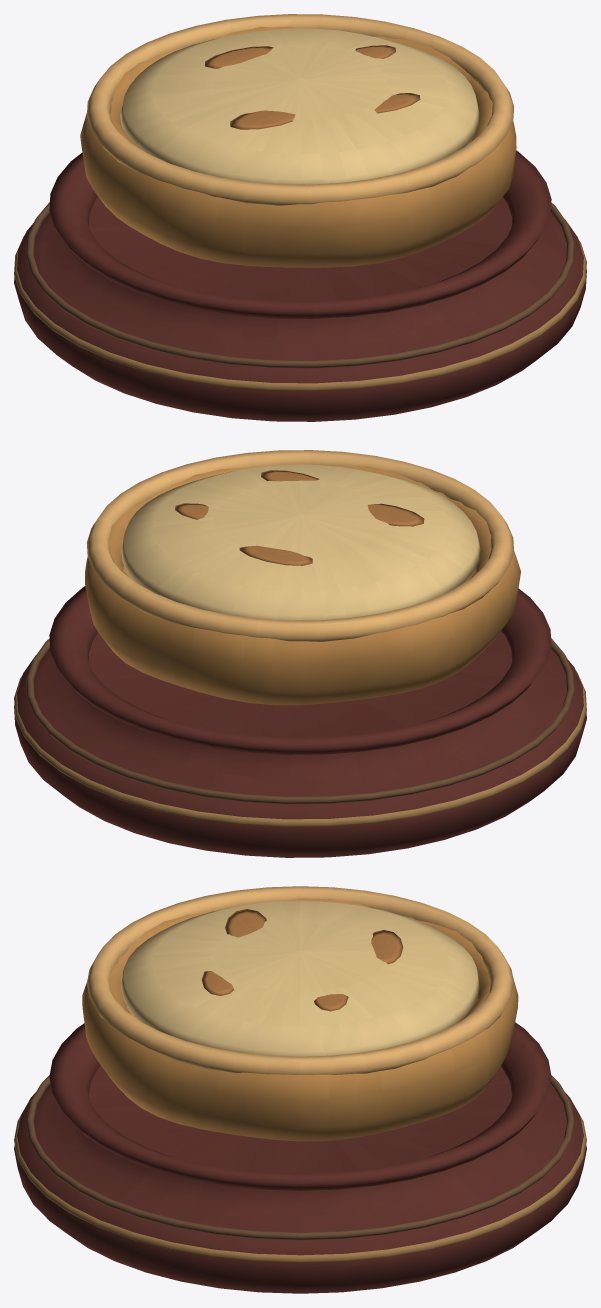
The model's file is cheese-tart.glb.
3 views of the same model, one above another, from view 1: azimuth 30°, elevation 25°; view 2: azimuth 150°, elevation 25°; view 3: azimuth 270°, elevation 25° (orthographic).
Visible parts, largest first — view 1: Shared_burgundy_dessert_plate, Cheese_tart_baked_cheese_filling, Cheese_tart_thick_shortbread_shell, Cheese_tart_rich_crimped_crust, Shared_deep_recessed_band, Shared_antique_brass_outer_rim, Cheese_tart_lightly_baked_cheese_0, Cheese_tart_lightly_baked_cheese_3, Cheese_tart_lightly_baked_cheese_1; view 2: Shared_burgundy_dessert_plate, Cheese_tart_baked_cheese_filling, Cheese_tart_thick_shortbread_shell, Cheese_tart_rich_crimped_crust, Shared_deep_recessed_band, Shared_antique_brass_outer_rim, Cheese_tart_lightly_baked_cheese_3, Cheese_tart_lightly_baked_cheese_0; view 3: Shared_burgundy_dessert_plate, Cheese_tart_baked_cheese_filling, Cheese_tart_thick_shortbread_shell, Cheese_tart_rich_crimped_crust, Shared_deep_recessed_band, Shared_antique_brass_outer_rim, Cheese_tart_lightly_baked_cheese_0, Cheese_tart_lightly_baked_cheese_3, Cheese_tart_lightly_baked_cheese_1.
Boxes of the visible parts, box(x1,y1,x2,y2) form: Shared_burgundy_dessert_plate: box(14, 150, 586, 421); Cheese_tart_baked_cheese_filling: box(120, 28, 479, 184); Cheese_tart_thick_shortbread_shell: box(80, 26, 516, 267); Cheese_tart_rich_crimped_crust: box(86, 14, 514, 205); Shared_deep_recessed_band: box(26, 202, 574, 368); Shared_antique_brass_outer_rim: box(14, 235, 586, 390); Cheese_tart_lightly_baked_cheese_0: box(230, 110, 295, 129); Cheese_tart_lightly_baked_cheese_3: box(205, 46, 273, 68); Cheese_tart_lightly_baked_cheese_1: box(374, 93, 420, 113); Shared_burgundy_dessert_plate: box(14, 586, 586, 857); Cheese_tart_baked_cheese_filling: box(121, 464, 480, 620); Cheese_tart_thick_shortbread_shell: box(85, 465, 520, 705); Cheese_tart_rich_crimped_crust: box(86, 450, 514, 641); Shared_deep_recessed_band: box(26, 638, 574, 804); Shared_antique_brass_outer_rim: box(14, 671, 586, 826); Cheese_tart_lightly_baked_cheese_3: box(239, 545, 312, 565); Cheese_tart_lightly_baked_cheese_0: box(367, 503, 424, 526); Shared_burgundy_dessert_plate: box(14, 1022, 586, 1293); Cheese_tart_baked_cheese_filling: box(121, 901, 479, 1056); Cheese_tart_thick_shortbread_shell: box(82, 898, 518, 1141); Cheese_tart_rich_crimped_crust: box(87, 886, 513, 1074); Shared_deep_recessed_band: box(26, 1075, 574, 1240); Shared_antique_brass_outer_rim: box(14, 1116, 586, 1262); Cheese_tart_lightly_baked_cheese_0: box(225, 909, 266, 937); Cheese_tart_lightly_baked_cheese_3: box(371, 930, 403, 964); Cheese_tart_lightly_baked_cheese_1: box(201, 971, 234, 995).
Bounding box in the file's own units: 0.858 × 0.381 × 0.858.
